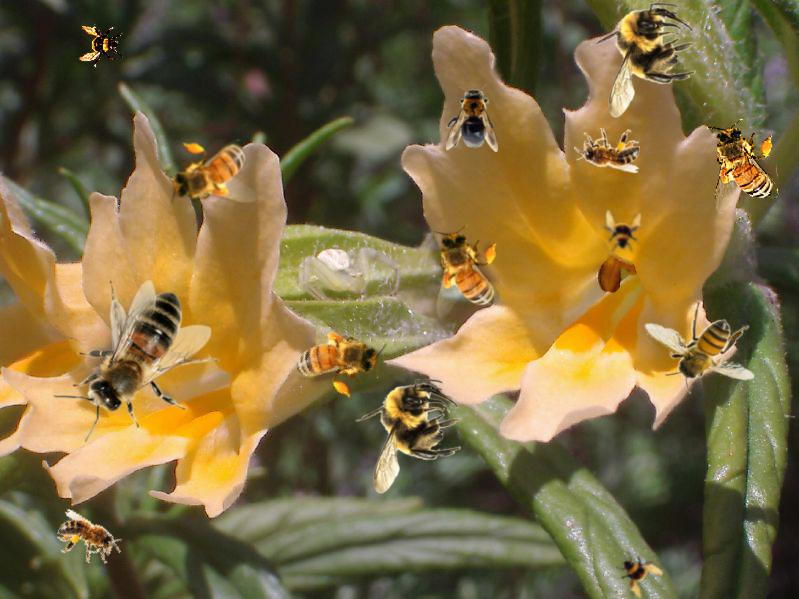Bee: (53, 280, 220, 442), (590, 3, 697, 118), (355, 379, 462, 494), (279, 308, 393, 409), (644, 300, 755, 394), (706, 117, 780, 214), (432, 225, 500, 318), (165, 139, 258, 207), (51, 507, 129, 572), (607, 540, 669, 599), (446, 84, 498, 152), (574, 128, 640, 173), (79, 24, 123, 68), (599, 210, 643, 254)
